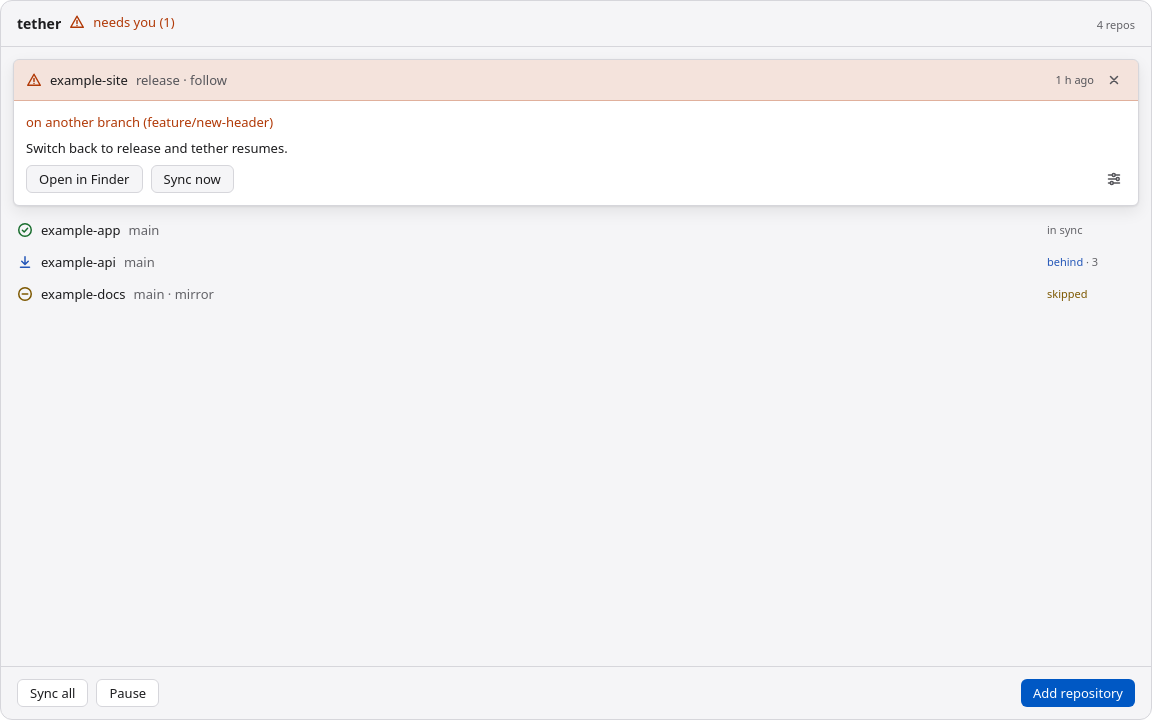
Test: Add repository › adds the chosen folder with its checked-out branch and the chosen mode
The image size is (1152, 720).
Step 1. Click the button "Add repository" → (1078, 693), box [1021,679,1135,707]
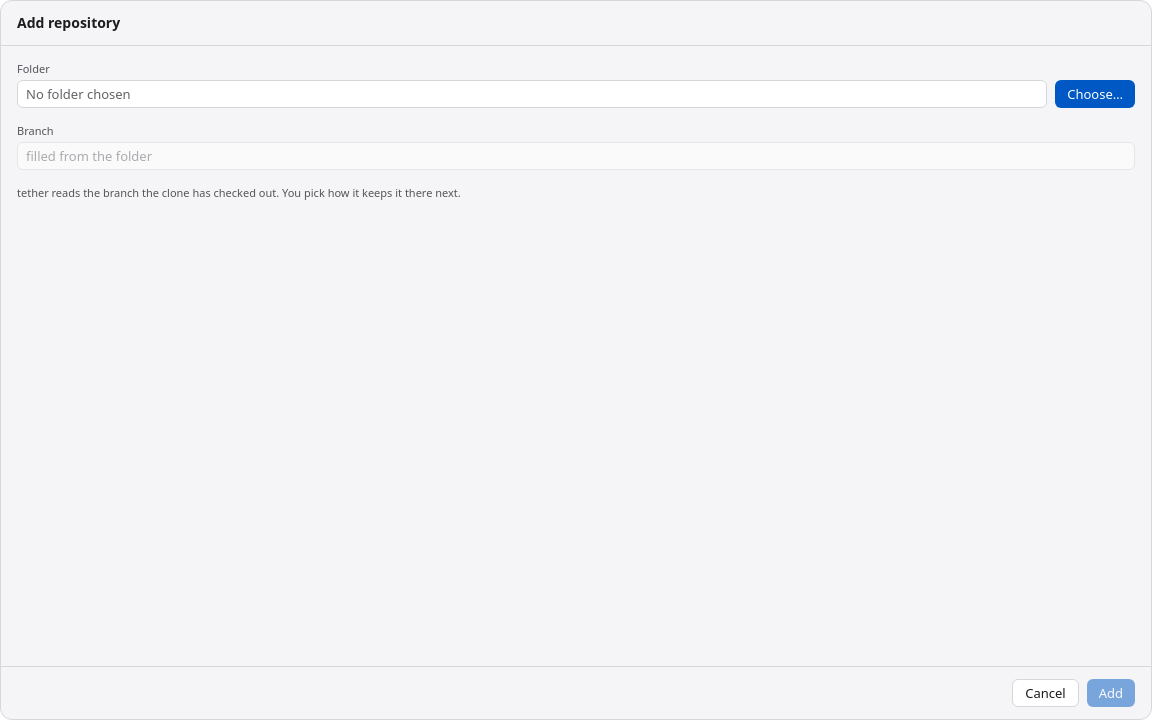
Step 2. Click the button "Choose…" → (1095, 94), box [1055,80,1135,108]
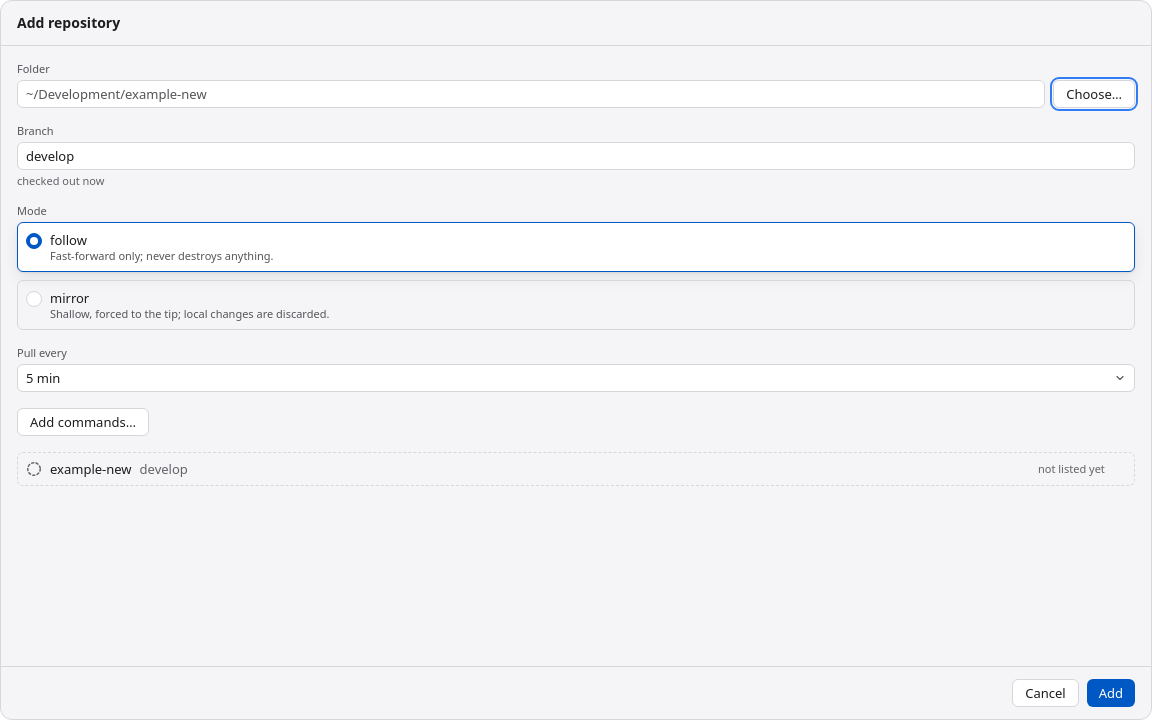
Result: the field labelled "Branch" holds "develop" at [17,142,1135,170]
Step 3. Click the radio button named "mirror" next to "mirror" → (34, 299), box [26,291,42,307]
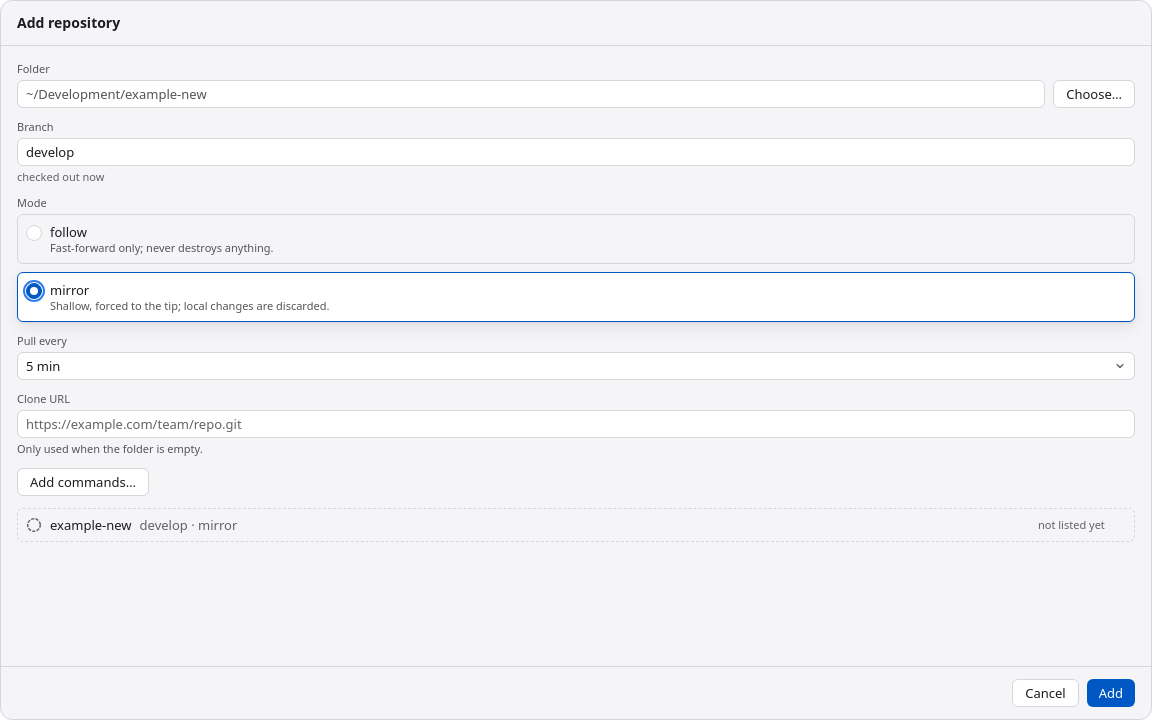
Step 4. Type "https://example.com/r.git" into the field labelled "Clone URL" → (576, 424), box [17,410,1135,438]
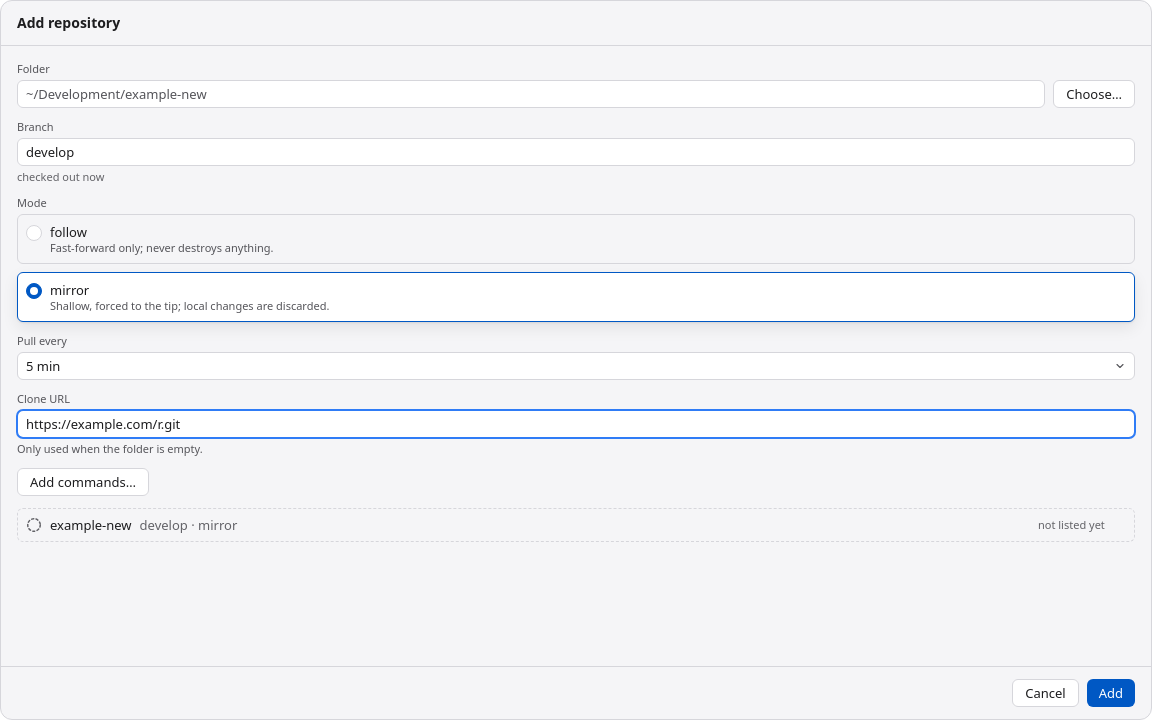
Step 5. Click the button "Add" → (1111, 693), box [1087,679,1135,707]
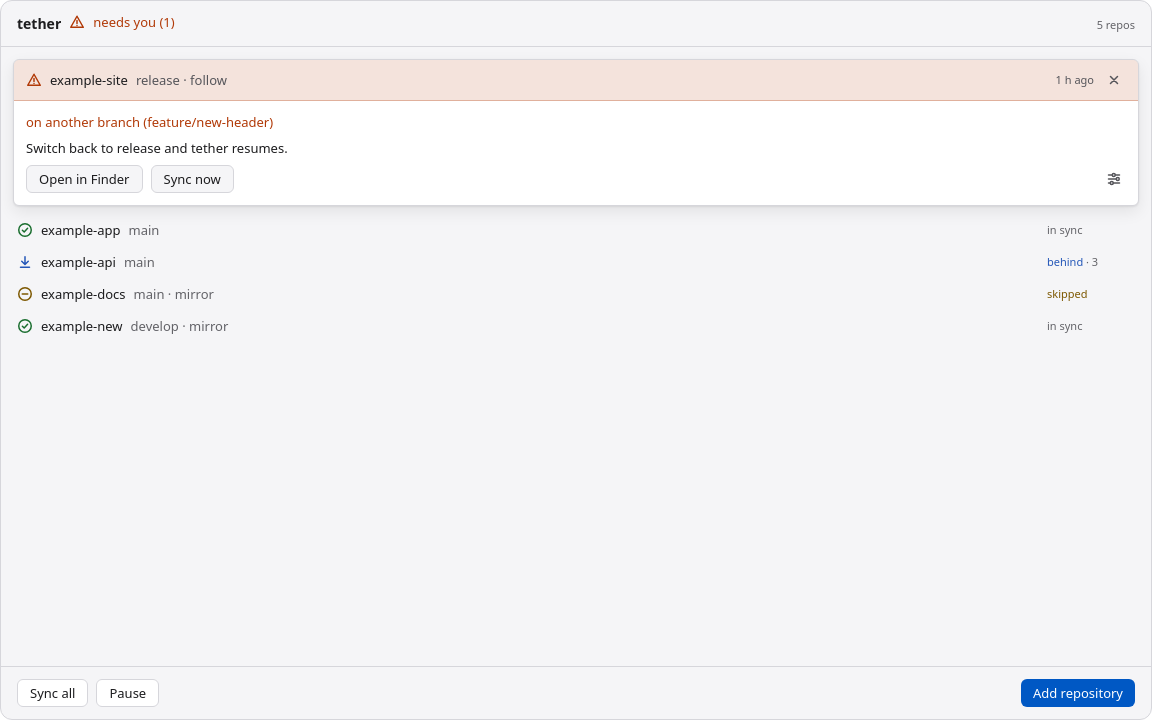
Result: the list item "example-new" is shown at [17,317,1082,335]
